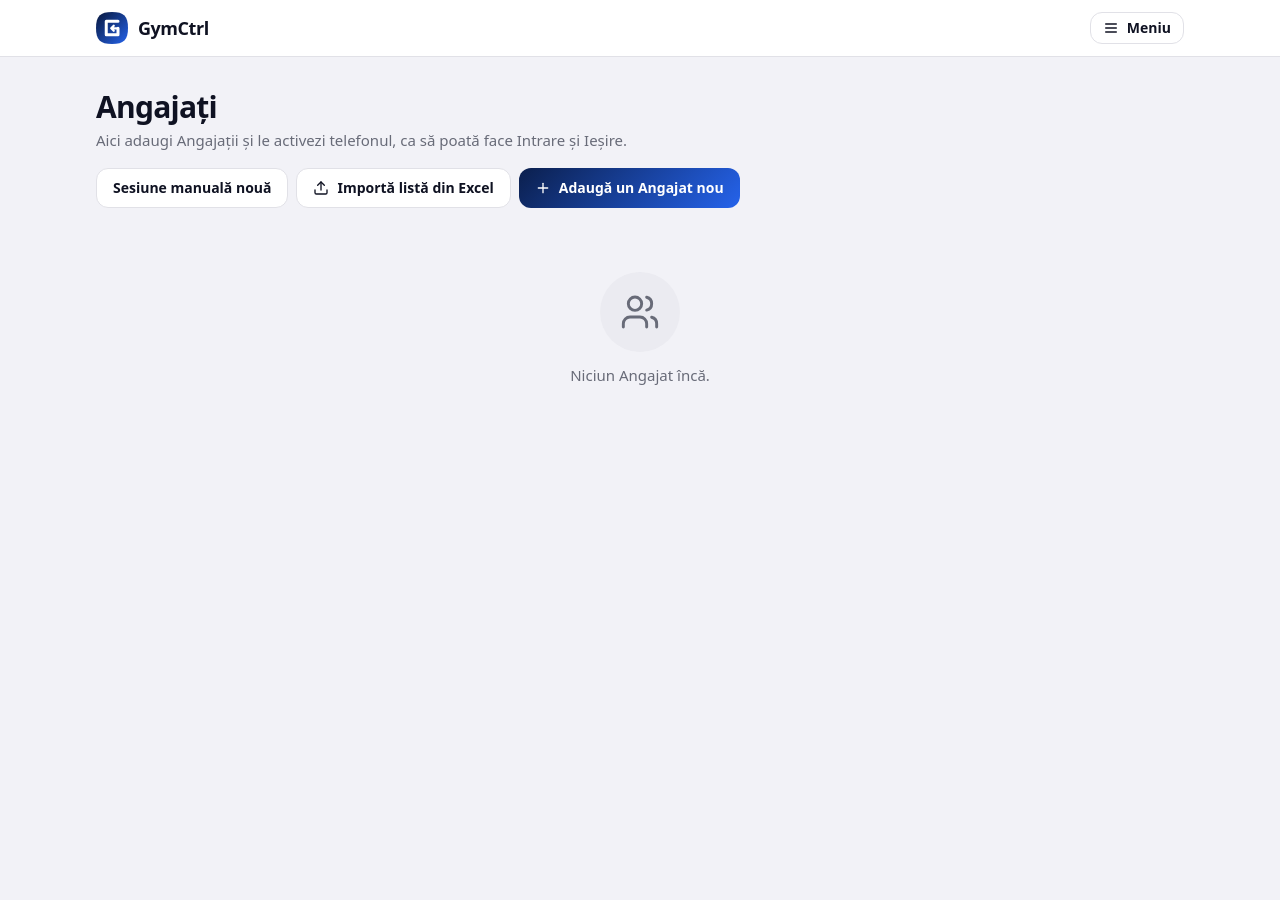
Scenario: bara de sus și meniul › închide sesiunea la Deconectare și duce la login
The image size is (1280, 900).
Click the button "Meniu".
click(1137, 28)  # box [1090, 12, 1184, 44]
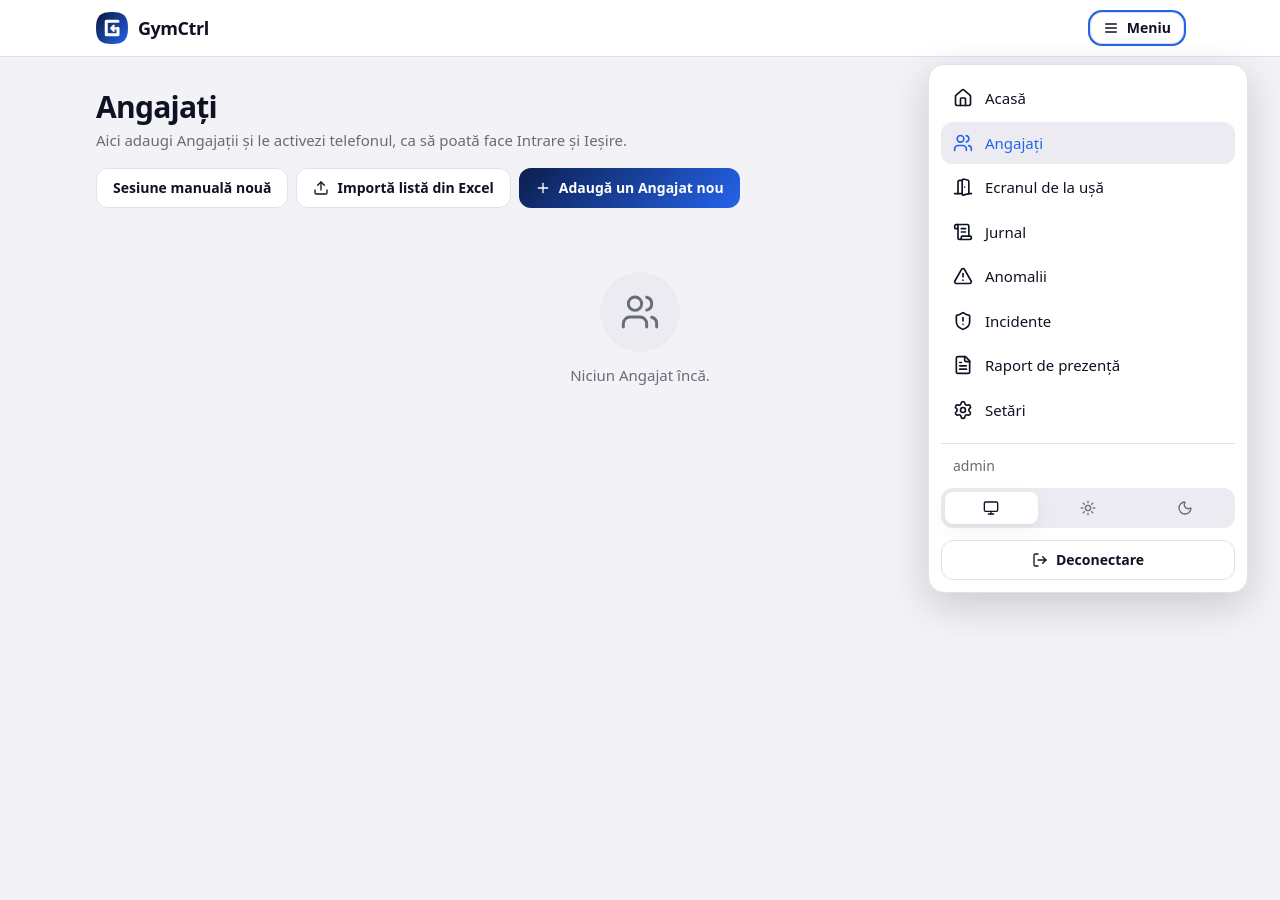
Click the button "Deconectare".
click(1088, 560)  # box [941, 540, 1235, 580]
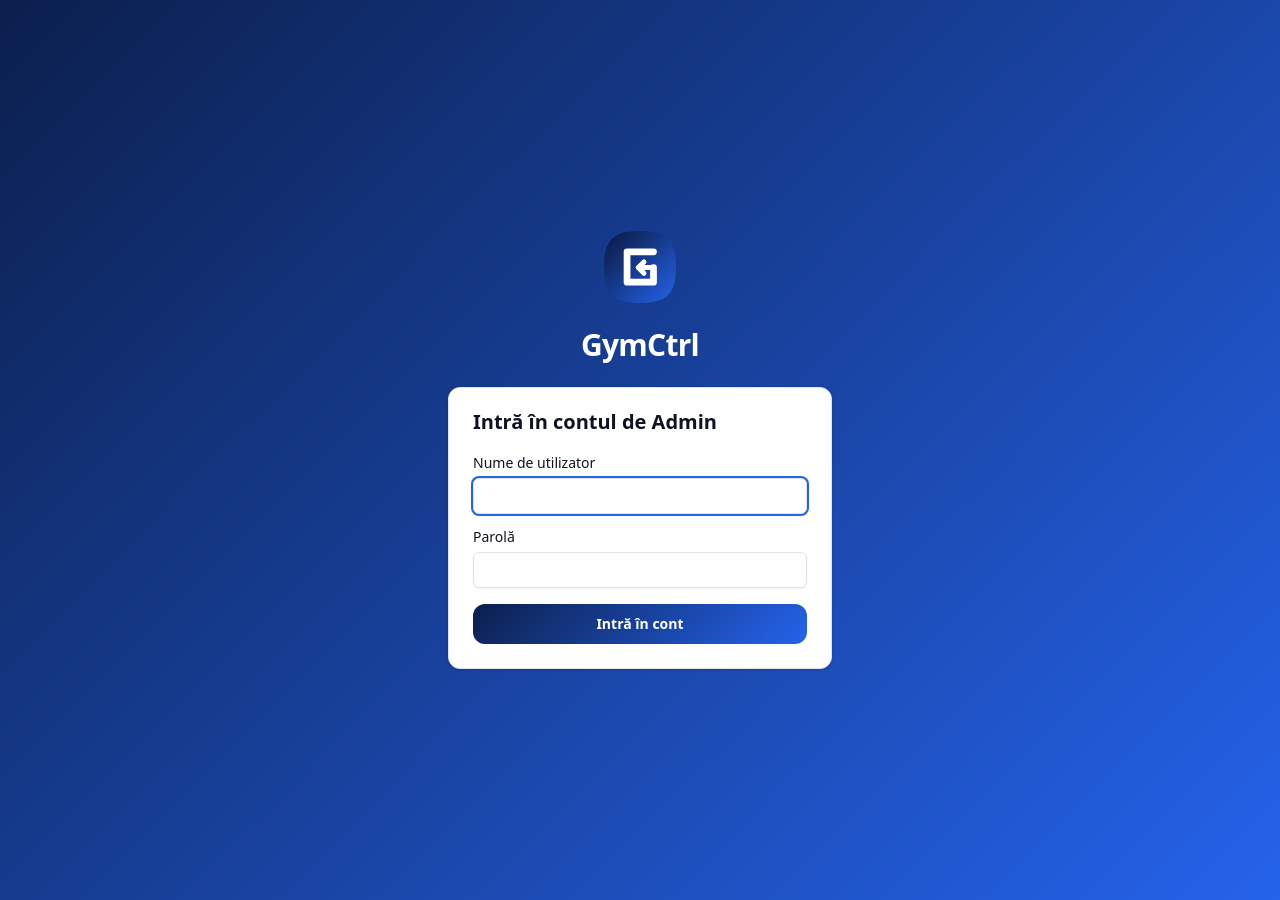
expect the button "Intră în cont" is shown: met, box [473, 604, 807, 644]
